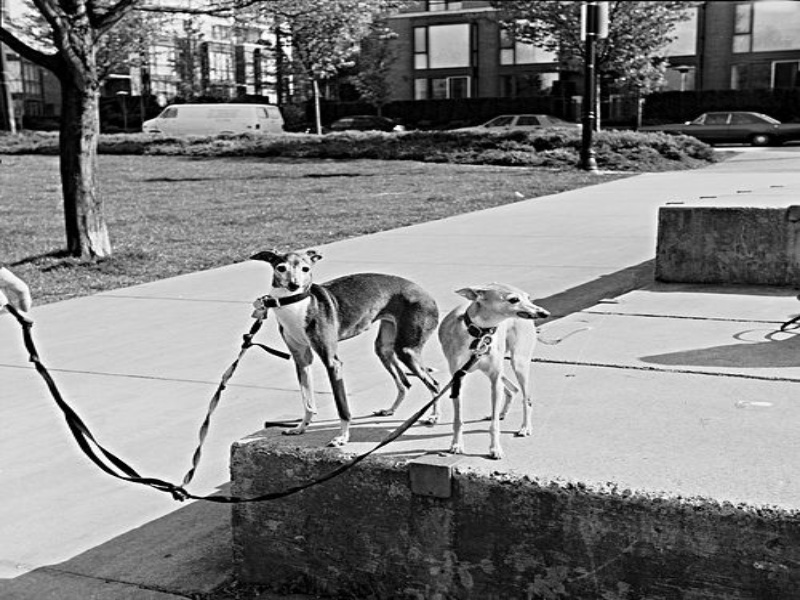car: (634, 109, 799, 149), (140, 104, 283, 133), (444, 112, 584, 137)
